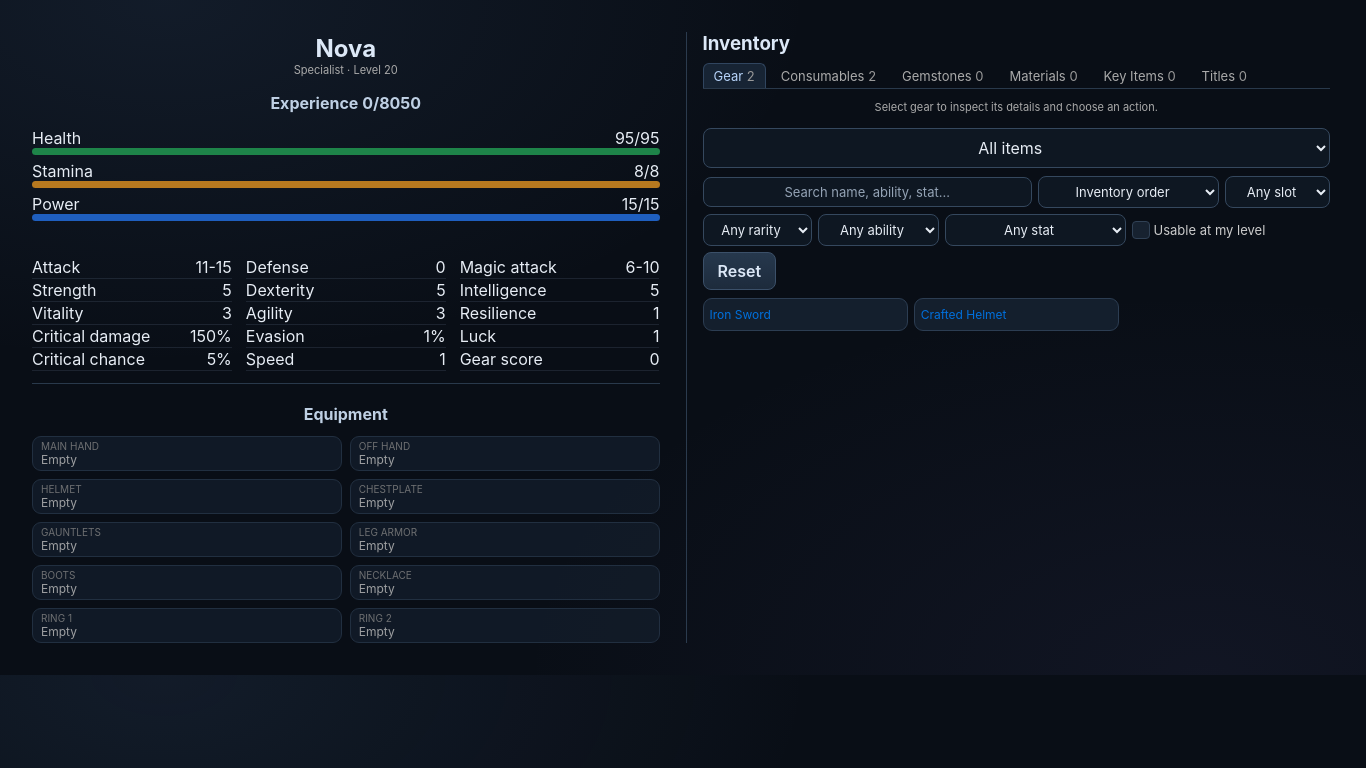
Test case: cancelling does not consume a rune or change an item
This screenshot has width=1366, height=768.
Step 1. Click the tab "Consumables 2" → coordinates (828, 76), box [770,63,887,88]
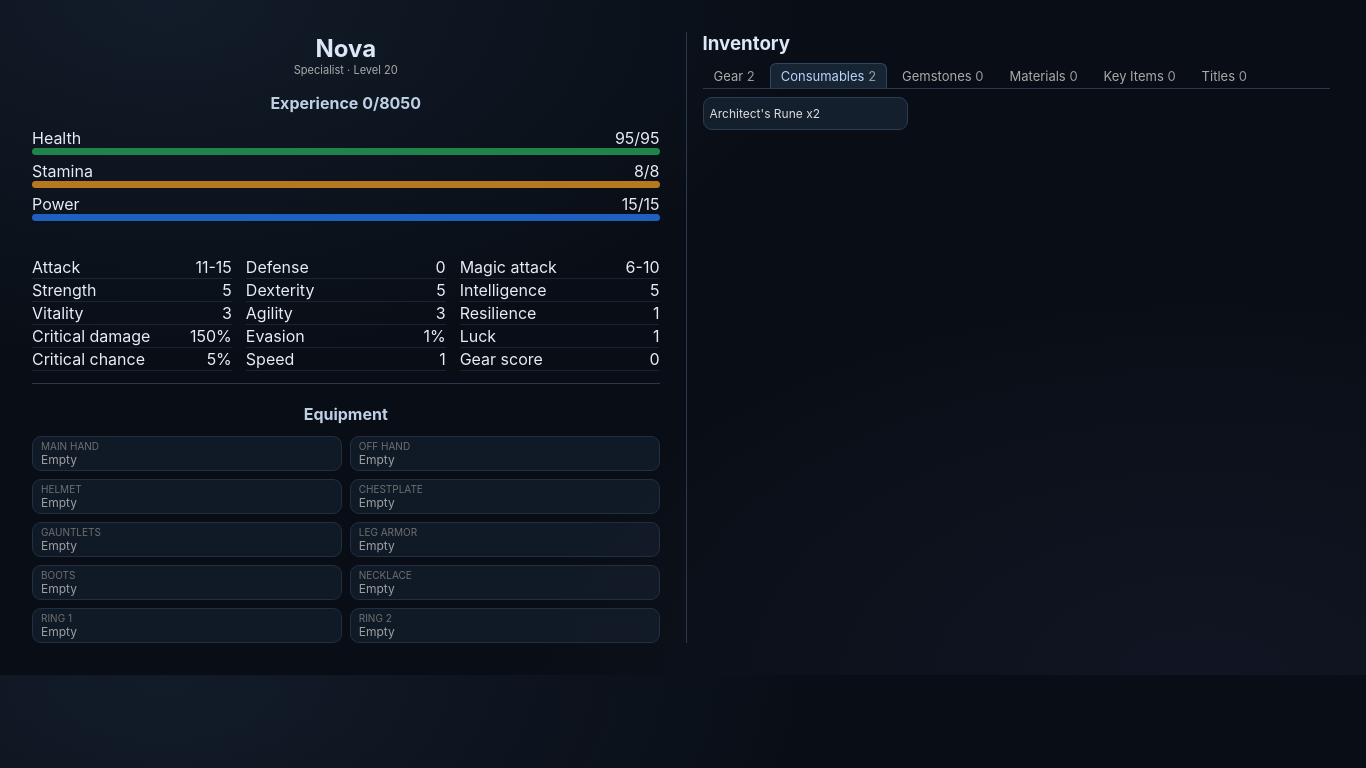
Step 2. Click the button "Architect's Rune x2" → coordinates (805, 114), box [702,97,908,130]
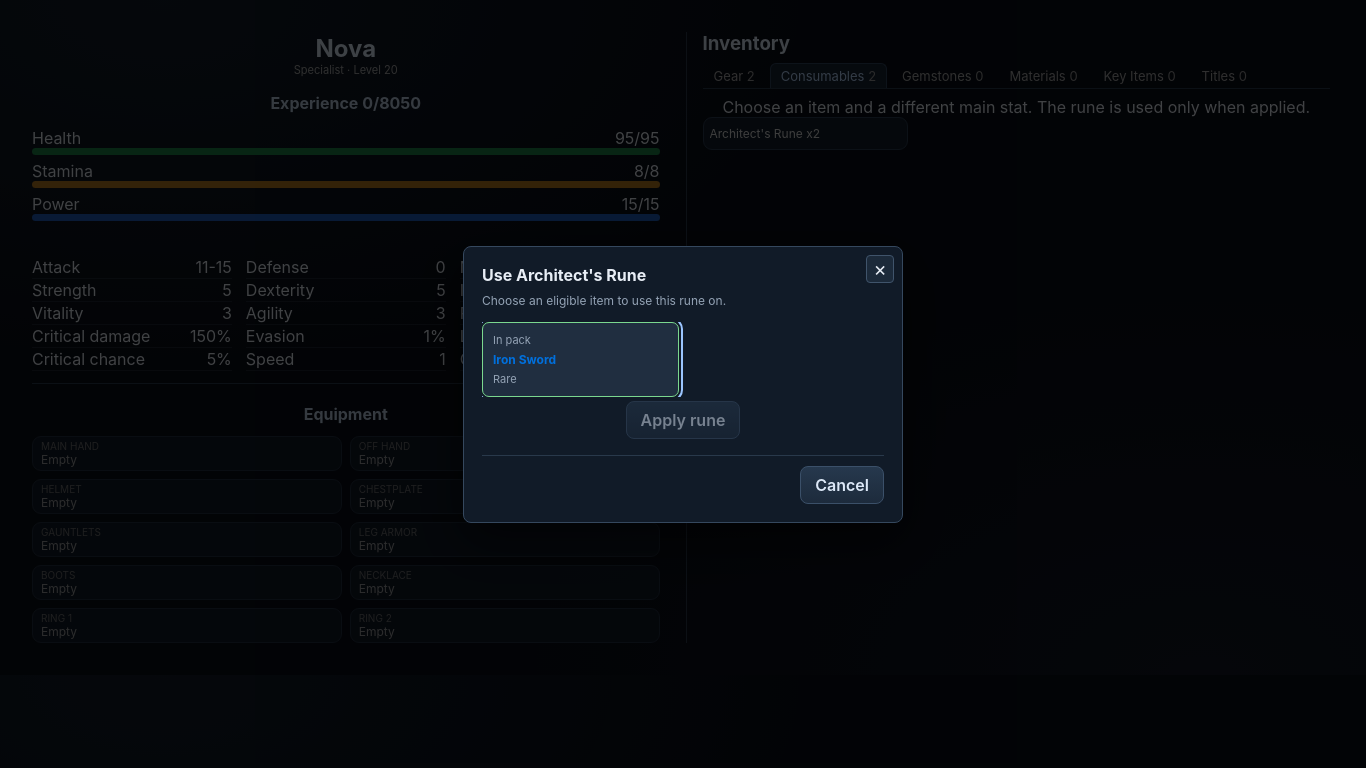
Step 3. Click the button "Cancel" → coordinates (842, 484), box [800,466,884,504]
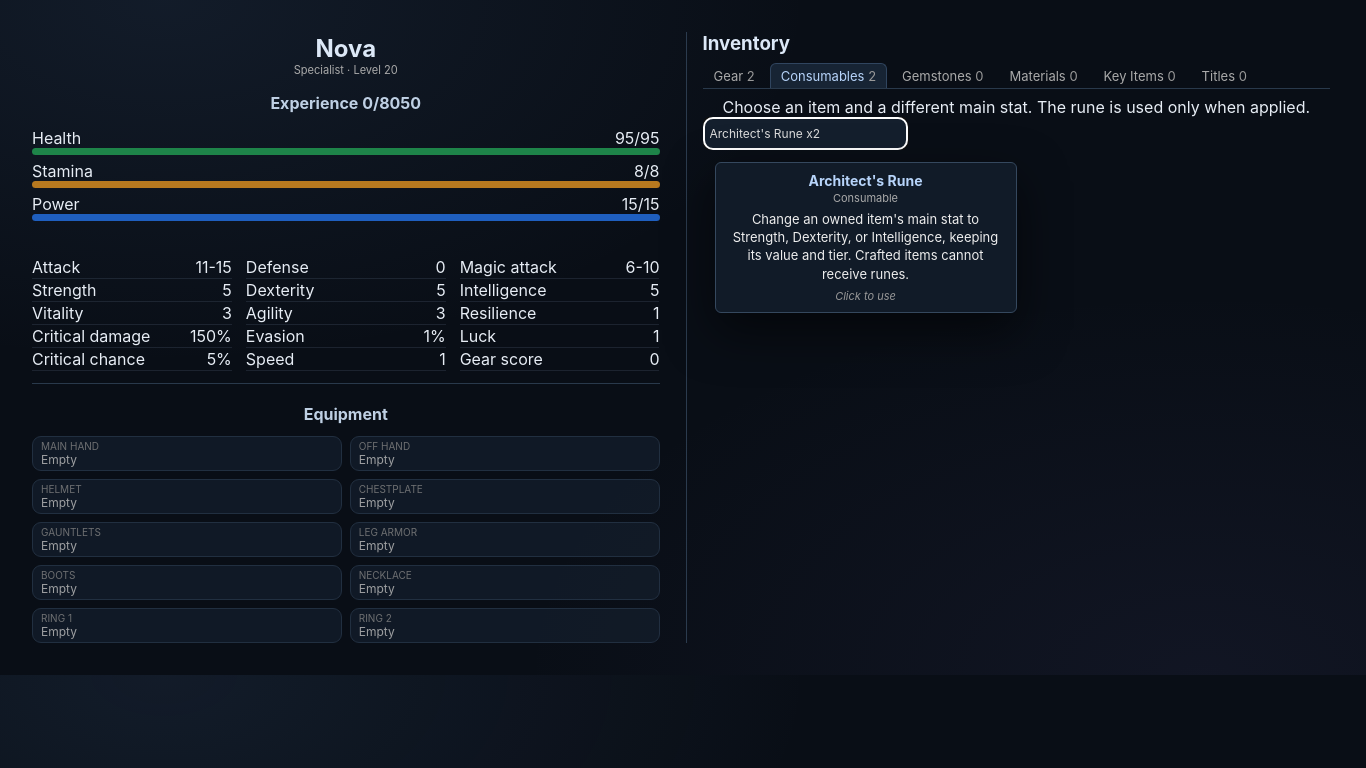
Expected: the heading "Use Architect's Rune" is gone
